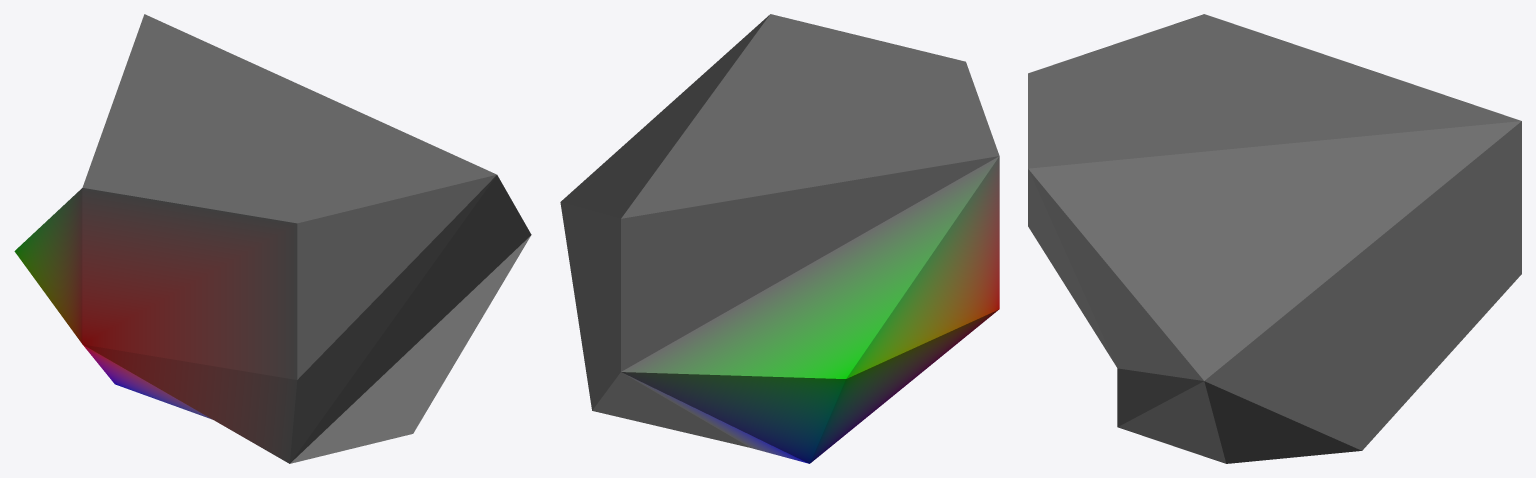
The model's file is gate_re_cleaning_conquest_0_bis.obj.
3 views of the same model, side by side, from view 1: azimuth 30°, elevation 25°; view 2: azimuth 150°, elevation 25°; view 3: azimuth 270°, elevation 25° (orthographic). The views are drawn at different scales.
Size of the model in its own units: 1.85 by 1.31 by 1.81.
